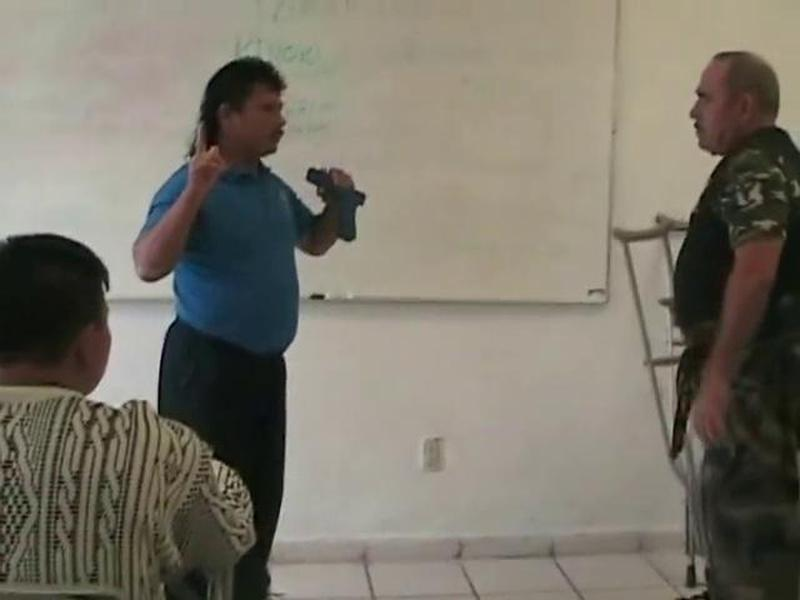Pistola: (298, 154, 377, 259)
